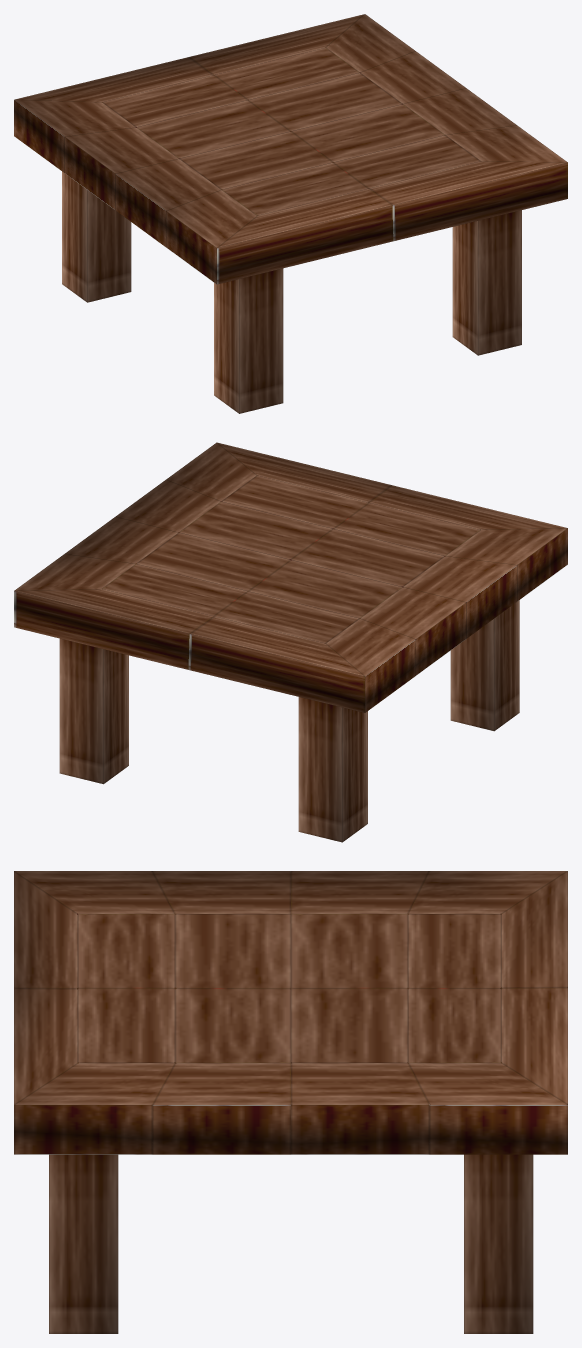
3 views of the same model, one above another, from view 1: azimuth 30°, elevation 25°; view 2: azimuth 150°, elevation 25°; view 3: azimuth 270°, elevation 25° (orthographic). The views are drawn at different scales.
Visible parts, largest first — view 1: T1L6M002_0; view 2: T1L6M002_0; view 3: T1L6M002_0.
Boxes of the visible parts, x1=… form: T1L6M002_0: x1=14, y1=14, x2=567, y2=413; T1L6M002_0: x1=14, y1=442, x2=567, y2=842; T1L6M002_0: x1=14, y1=871, x2=567, y2=1333.
Bounding box in the file's own units: 2 × 1 × 2.
